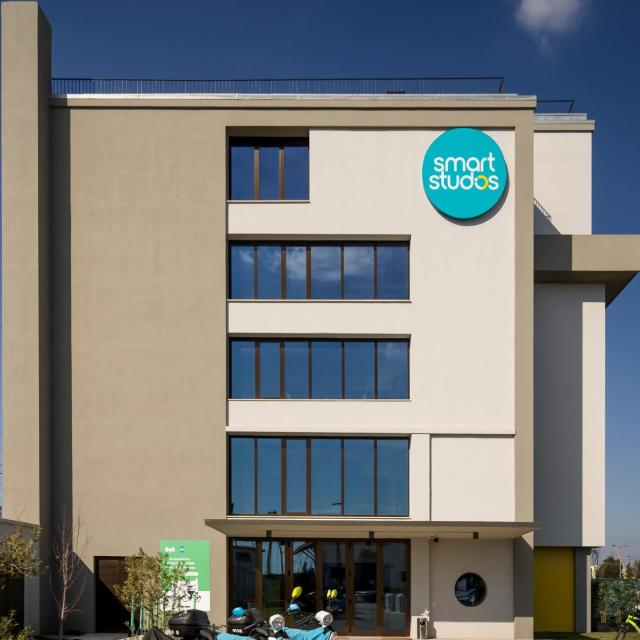Railing: (50, 75, 505, 91)
door: (227, 539, 410, 632), (92, 555, 138, 632)
plant: (115, 546, 200, 628), (592, 557, 640, 629), (0, 528, 40, 575), (0, 610, 34, 639)
windows: (226, 437, 407, 517), (230, 336, 410, 399), (226, 239, 407, 297), (229, 138, 307, 198), (533, 546, 575, 632), (454, 572, 486, 603)
